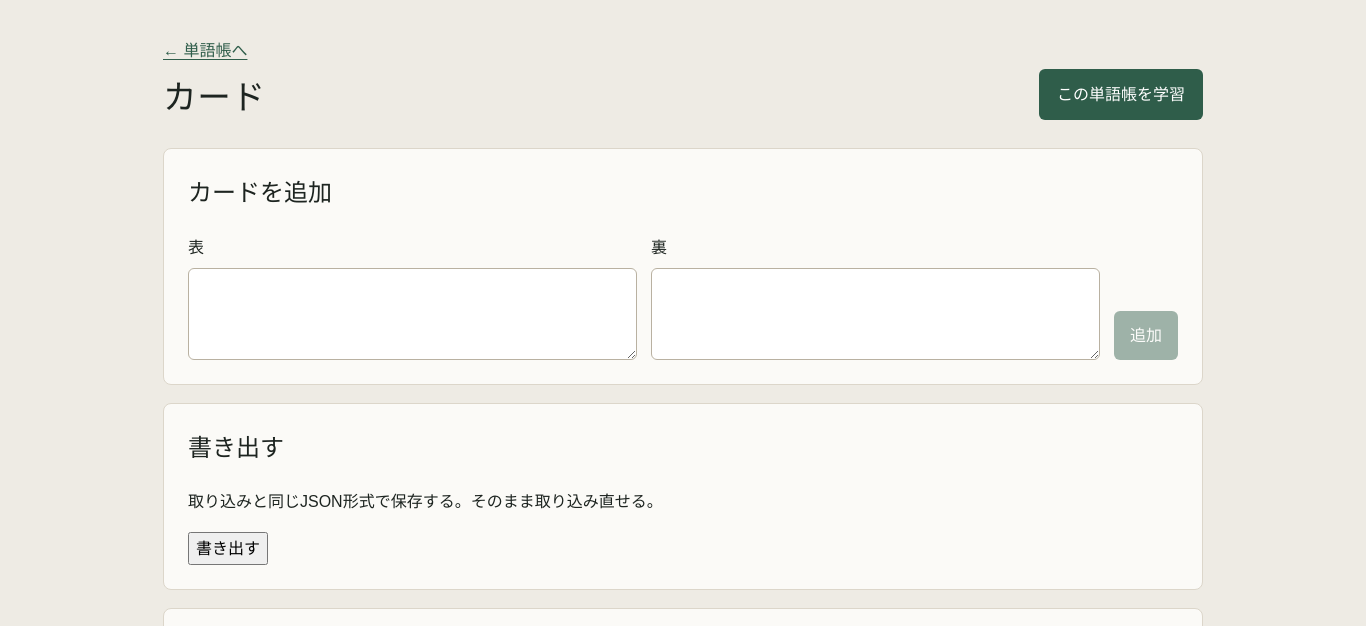
カード一覧のページ送り › 書き出し › 書き出すとデッキ名のファイルを渡す
Click the button "書き出す" at (228, 548), box [188,532,268,565]
(page scrolled)
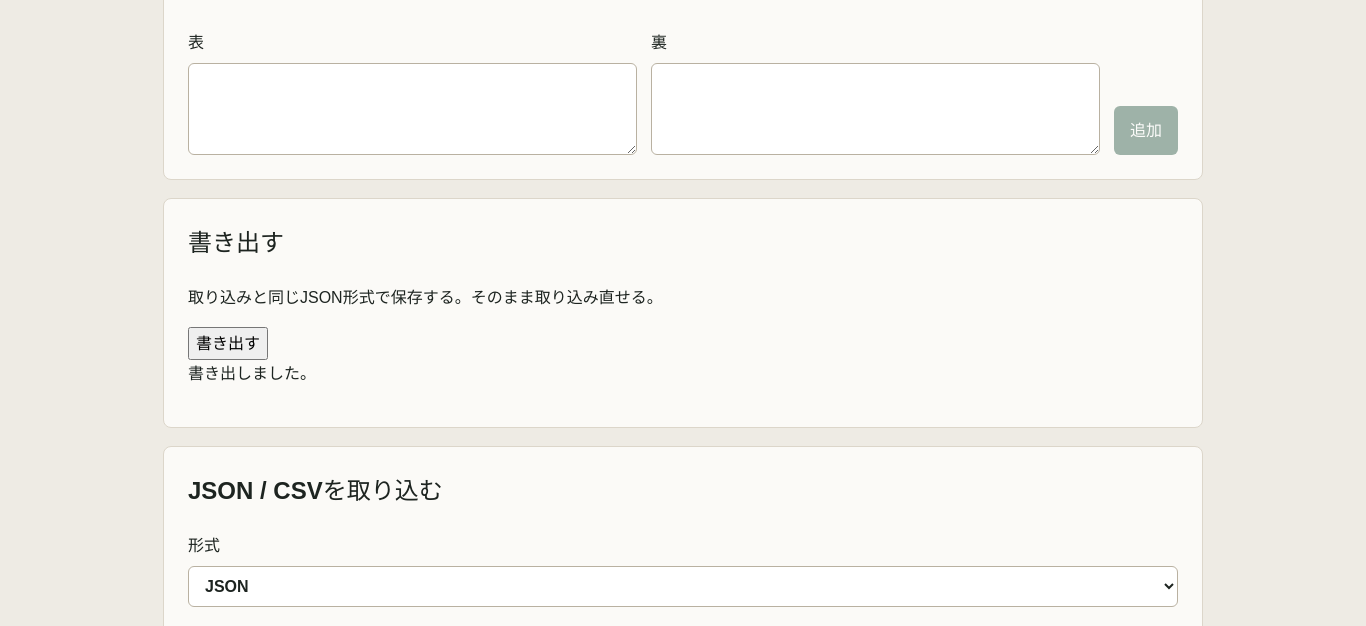
expect the text "書き出しました。" is shown: met, box [188,365,316,382]
